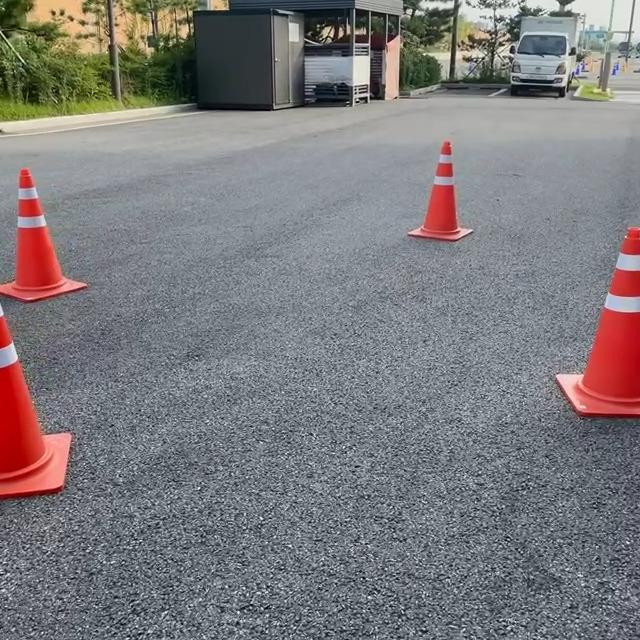fallen_object: (0, 306, 117, 514), (563, 170, 640, 424), (0, 153, 89, 300), (397, 129, 475, 253)
